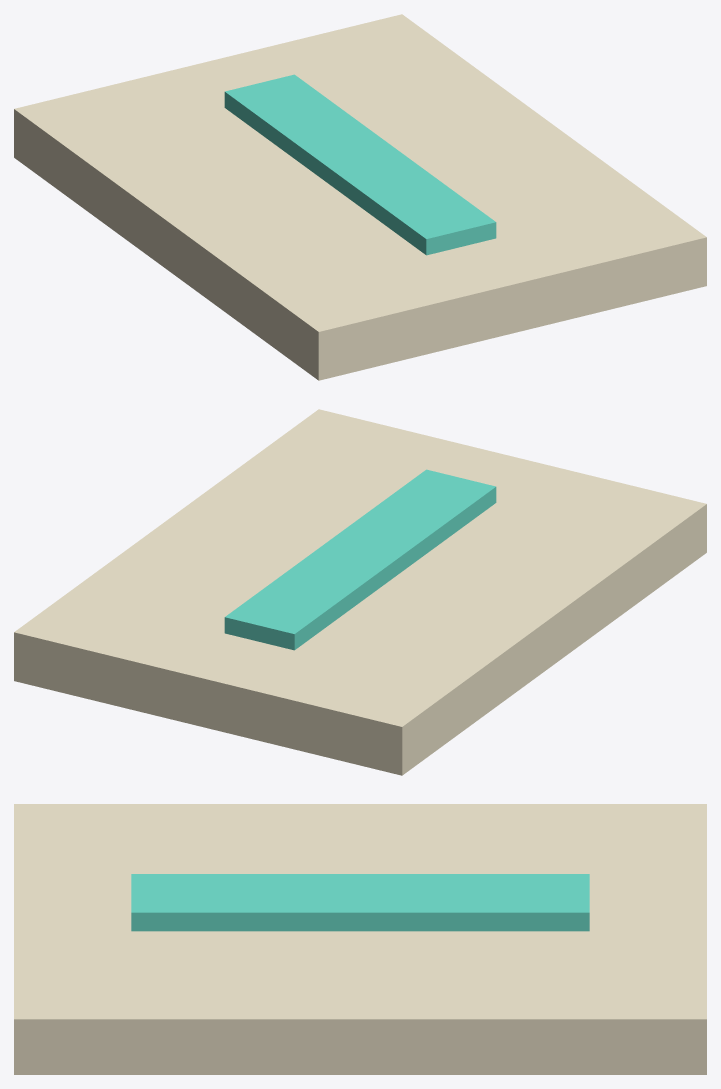
File: FestivalMap.fbx
3 views of the same model, one above another, from view 1: azimuth 30°, elevation 25°; view 2: azimuth 150°, elevation 25°; view 3: azimuth 270°, elevation 25° (orthographic). The views are drawn at different scales.
Visible parts, largest first — view 1: FestivalMap Cream__Cream, FestivalMap Mint__Mint; view 2: FestivalMap Cream__Cream, FestivalMap Mint__Mint; view 3: FestivalMap Cream__Cream, FestivalMap Mint__Mint.
Part boxes in pixels (left/top/right/bottom): FestivalMap Cream__Cream: left=14, top=14, right=706, bottom=380; FestivalMap Mint__Mint: left=224, top=74, right=496, bottom=255; FestivalMap Cream__Cream: left=14, top=409, right=706, bottom=775; FestivalMap Mint__Mint: left=224, top=469, right=496, bottom=650; FestivalMap Cream__Cream: left=14, top=804, right=706, bottom=1074; FestivalMap Mint__Mint: left=131, top=874, right=589, bottom=931.
Size of the model in its own units: 50 by 8 by 68.
